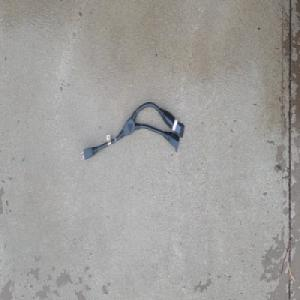Wire: (79, 100, 185, 161)
